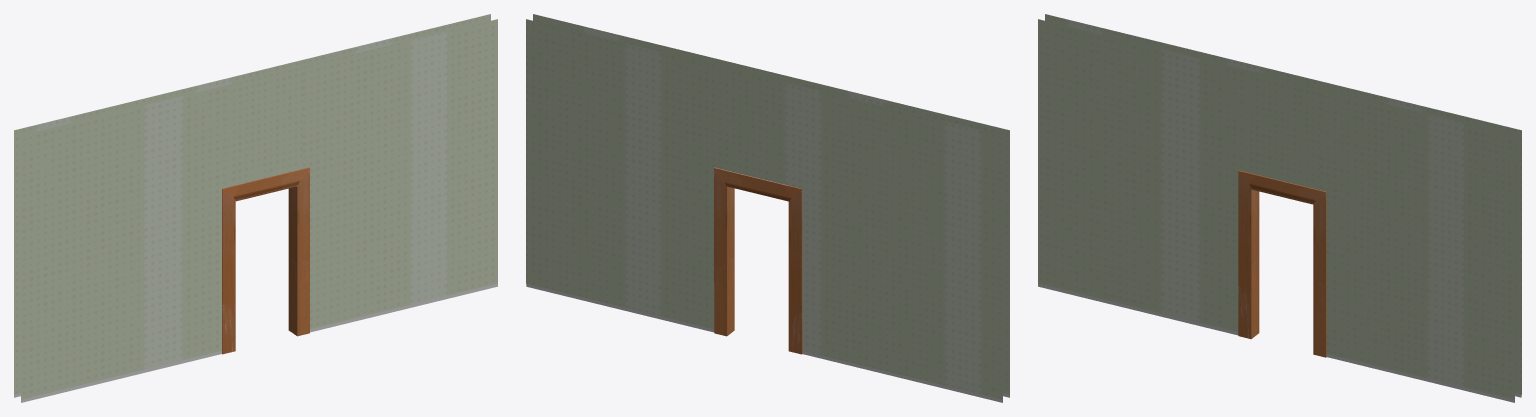
3 views of the same model, side by side, from view 1: azimuth 30°, elevation 25°; view 2: azimuth 150°, elevation 25°; view 3: azimuth 330°, elevation 25° (orthographic).
Parts seen in each view (by area): view 1: Mesh (51); view 2: Mesh (51); view 3: Mesh (51).
Boxes of the visible parts, <box> form: Mesh (51): <box>14,14,497,402</box>; Mesh (51): <box>526,14,1009,402</box>; Mesh (51): <box>1038,14,1521,402</box>.
Bounding box in the file's own units: 649 × 349 × 19.38.
